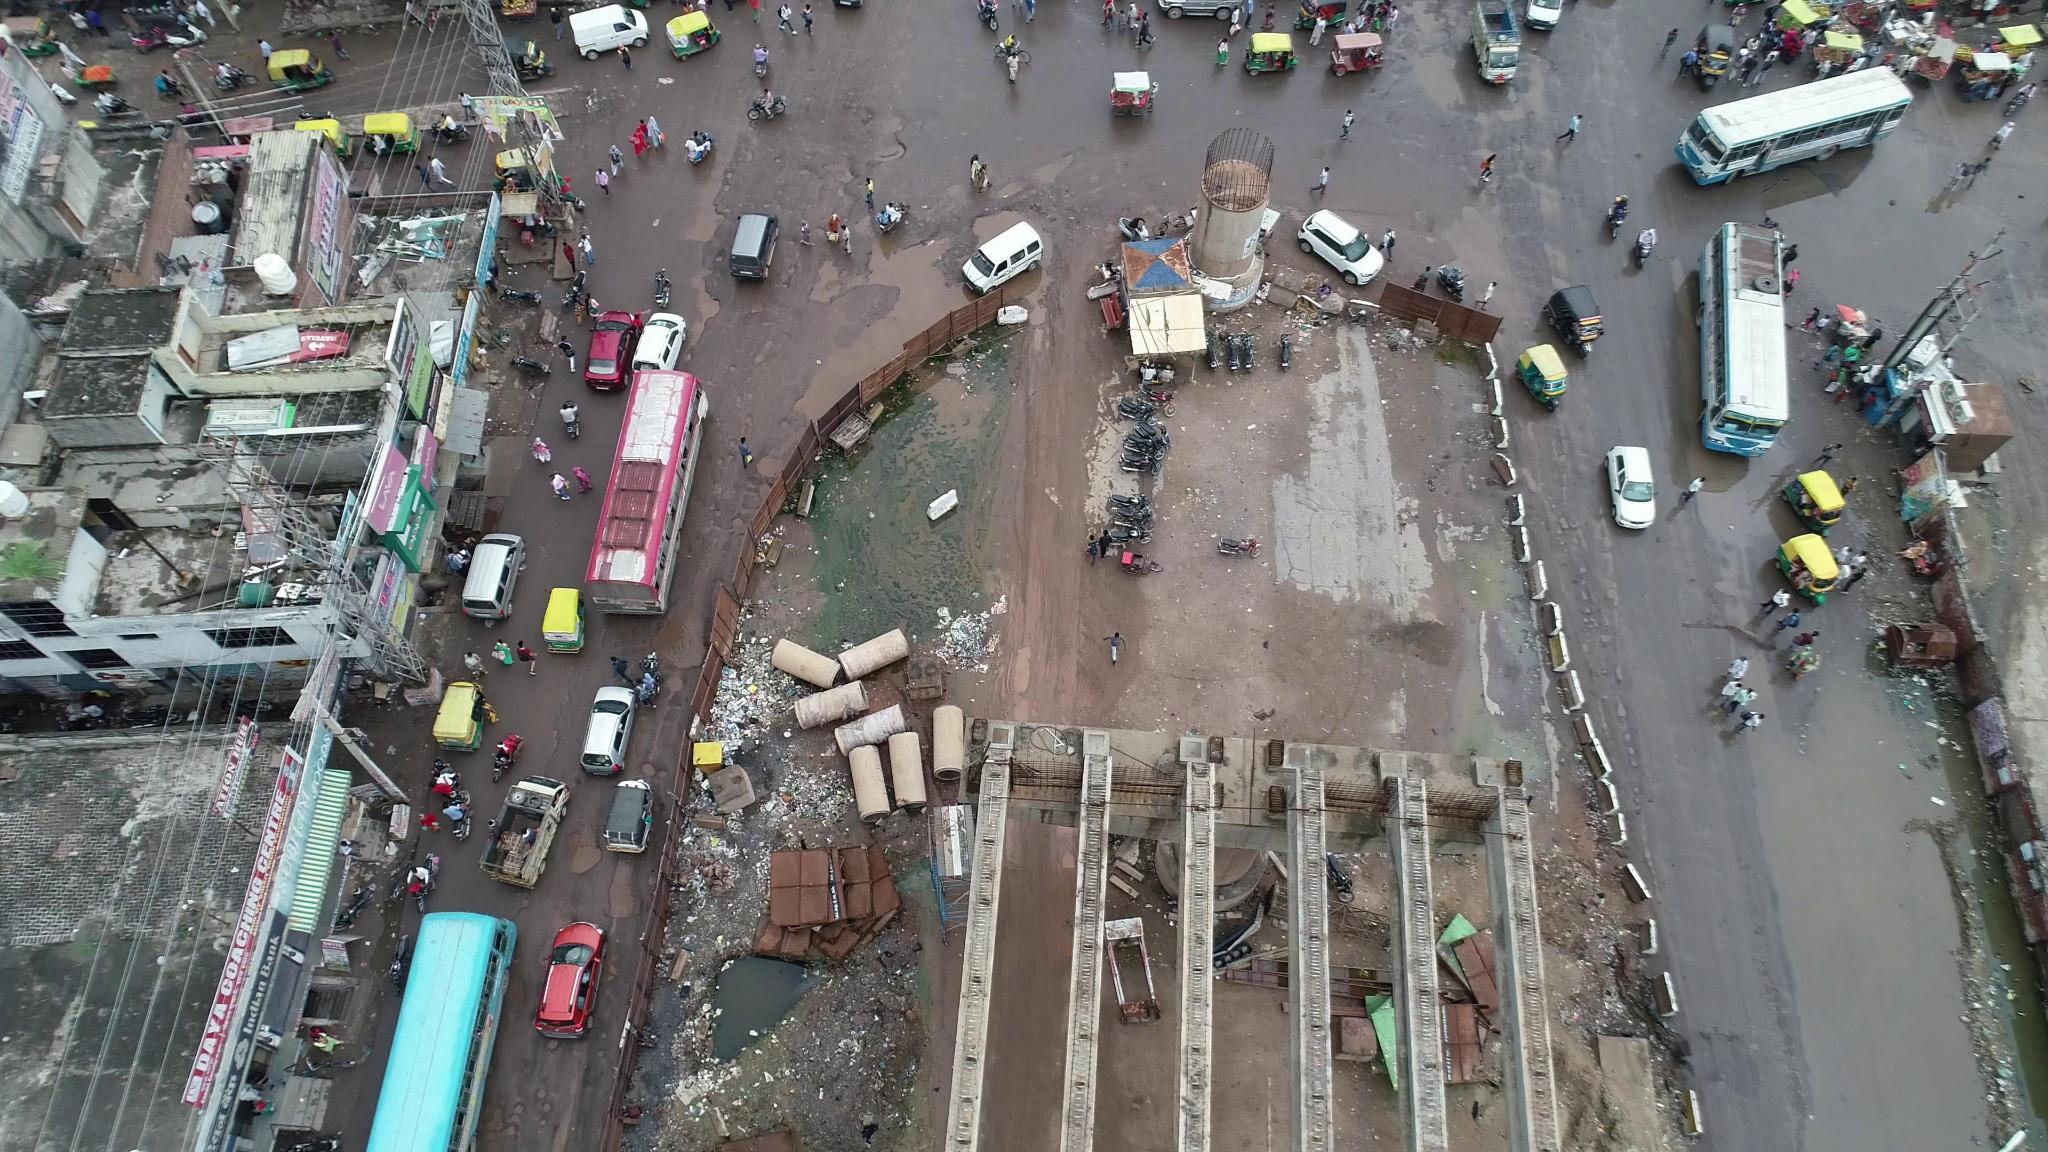Potholes: (1544, 520, 1639, 657), (693, 409, 776, 535), (1606, 679, 1665, 819), (708, 145, 769, 191)
